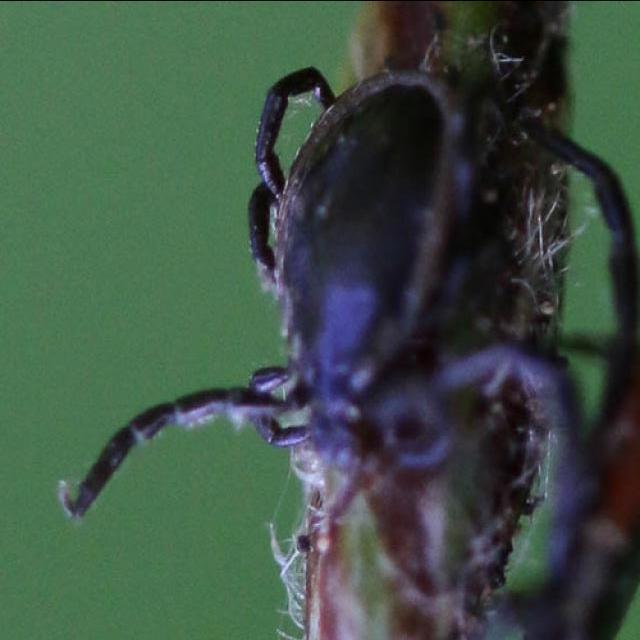Ixodes Ricinus-M: (58, 65, 620, 640)
